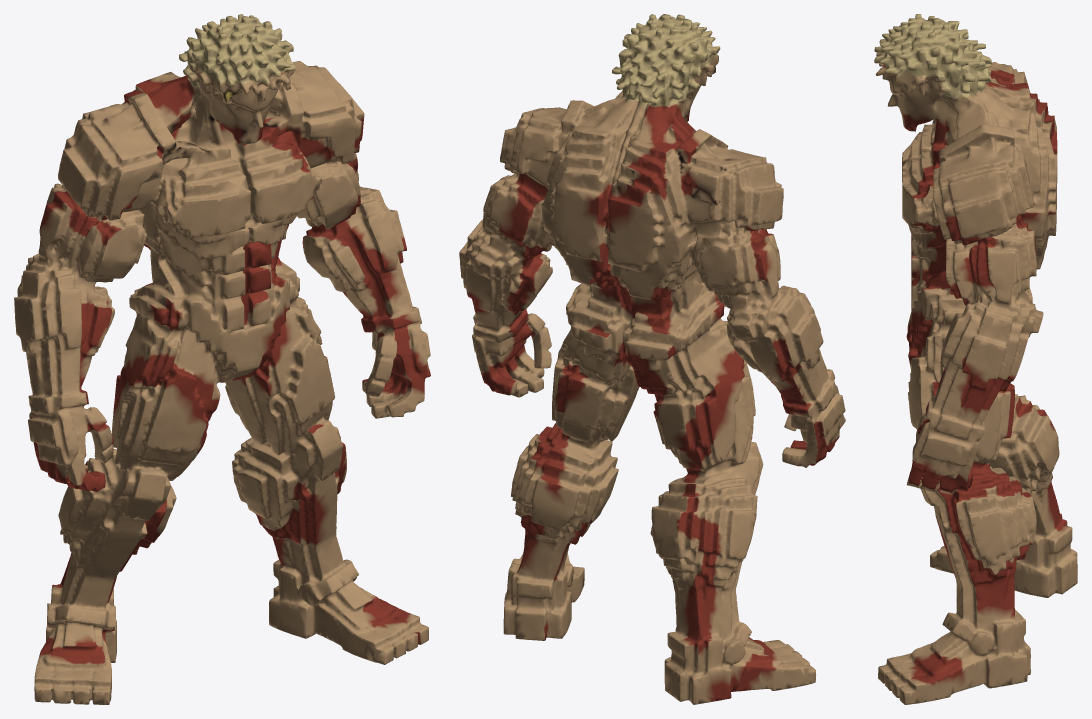
File: armored_idle.glb
The picture shows the model from 3 angles, left to right: view 1: azimuth 30°, elevation 25°; view 2: azimuth 150°, elevation 25°; view 3: azimuth 270°, elevation 25°; orthographic projection. The views are drawn at different scales.
Parts seen in each view (by area): view 1: world; view 2: world; view 3: world.
Part boxes in pixels (box(x1,y1,x2,y2)): world: box(14, 14, 430, 704); world: box(459, 14, 845, 704); world: box(874, 14, 1077, 704).
Size of the model in its own units: 1.16 by 1.9 by 0.5823.
